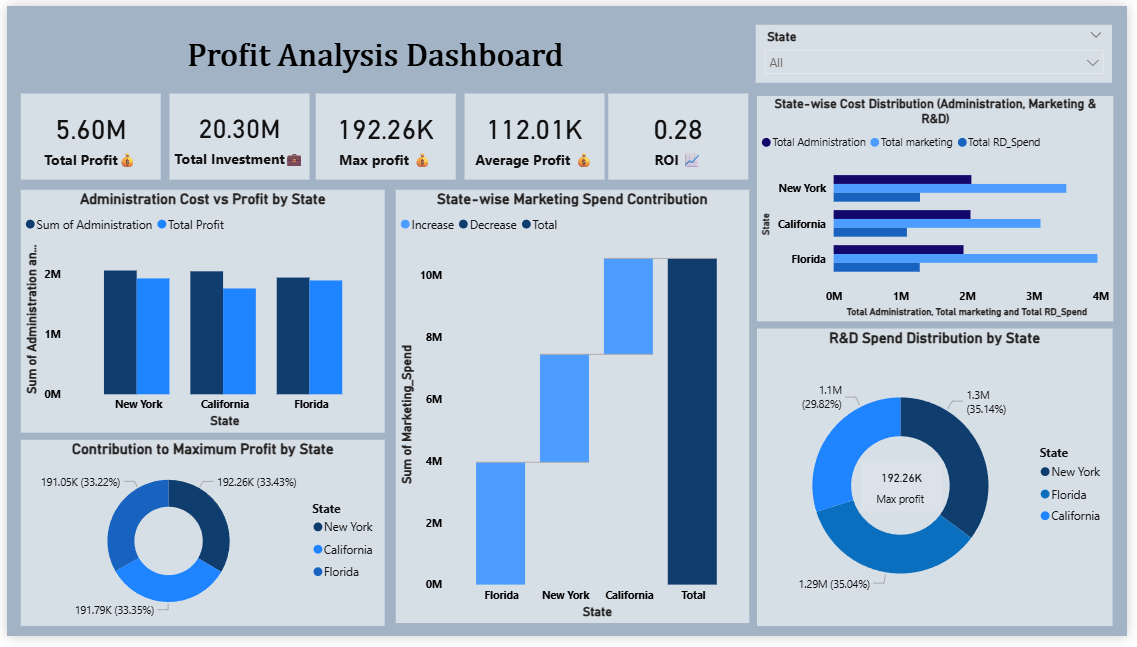

The page's visual inventory and layout, read from the dashboard file:
{"tool":"powerbi","page":{"name":"Page 1","canvas":[1280,720],"ordinal":0},"visuals":[{"type":"clusteredColumnChart","title":"Administration Cost vs Profit by State","fields":{"Y":["Sum(profit_p1.Administration)","profit_p1.Total Profit💰"],"Category":["profit_p1.State"]},"box":[16.2,210,416.2,277.5],"z":0},{"type":"waterfallChart","title":"State-wise Marketing Spend Contribution","fields":{"Category":["profit_p1.State"],"Y":["Sum(profit_p1.Marketing_Spend)"]},"box":[443.8,210,403.8,495],"z":1000},{"type":"pieChart","title":"R&D Spend Distribution by State","fields":{"Category":["profit_p1.State"],"Y":["Sum(profit_p1.RD_Spend)"]},"box":[857.5,368.8,406.2,340],"z":2000},{"type":"card","fields":{"Values":["profit_p1.total spend"]},"box":[185,100,160,98.8],"z":3000},{"type":"card","fields":{"Values":["profit_p1.max profit"]},"box":[352.5,100,160,98.8],"z":4000},{"type":"card","fields":{"Values":["profit_p1.Average Profit"]},"box":[522.5,100,160,98.8],"z":5000},{"type":"clusteredBarChart","title":"State-wise Cost Distribution (Administration, Marketing & R&D)","fields":{"Category":["profit_p1.State"],"Y":["profit_p1.Total Administration","profit_p1.Total marketing","profit_p1.Total RD_Spend"]},"box":[857.5,102.5,407.5,257.5],"z":6000},{"type":"slicer","fields":{"Values":["profit_p1.State"]},"box":[856.2,21.2,407.5,66.2],"z":7000},{"type":"textbox","box":[16.2,13.8,810,73.8],"z":8000},{"type":"pieChart","title":"Contribution to Maximum Profit by State","fields":{"Category":["profit_p1.State"],"Y":["profit_p1.max profit 💰"]},"box":[16.2,496.2,416.2,212.5],"z":9000},{"type":"card","fields":{"Values":["profit_p1.ROI"]},"box":[687.5,100,160,98.8],"z":10000},{"type":"card","fields":{"Values":["profit_p1.Total Profit"]},"box":[16.2,100,160,98.8],"z":11000},{"type":"card","fields":{"Values":["profit_p1.max profit 💰"]},"box":[976.2,520,93.8,57.5],"z":12000}]}

Visuals, with their boxes in screenshot pixels (x1, y1, x2, y2), scaled from the page's 1280x720 canvas onto the 1137x647 screenshot:
"Administration Cost vs Profit by State" clusteredColumnChart: {"left": 14, "top": 189, "right": 384, "bottom": 438}
"State-wise Marketing Spend Contribution" waterfallChart: {"left": 394, "top": 189, "right": 753, "bottom": 634}
"R&D Spend Distribution by State" pieChart: {"left": 762, "top": 331, "right": 1123, "bottom": 637}
card - profit_p1.total spend: {"left": 164, "top": 90, "right": 306, "bottom": 179}
card - profit_p1.max profit: {"left": 313, "top": 90, "right": 455, "bottom": 179}
card - profit_p1.Average Profit: {"left": 464, "top": 90, "right": 606, "bottom": 179}
"State-wise Cost Distribution (Administration, Marketing & R&D)" clusteredBarChart: {"left": 762, "top": 92, "right": 1124, "bottom": 324}
slicer - profit_p1.State: {"left": 761, "top": 19, "right": 1123, "bottom": 79}
textbox: {"left": 14, "top": 12, "right": 734, "bottom": 79}
"Contribution to Maximum Profit by State" pieChart: {"left": 14, "top": 446, "right": 384, "bottom": 637}
card - profit_p1.ROI: {"left": 611, "top": 90, "right": 753, "bottom": 179}
card - profit_p1.Total Profit: {"left": 14, "top": 90, "right": 157, "bottom": 179}
card - profit_p1.max profit 💰: {"left": 867, "top": 467, "right": 950, "bottom": 519}
